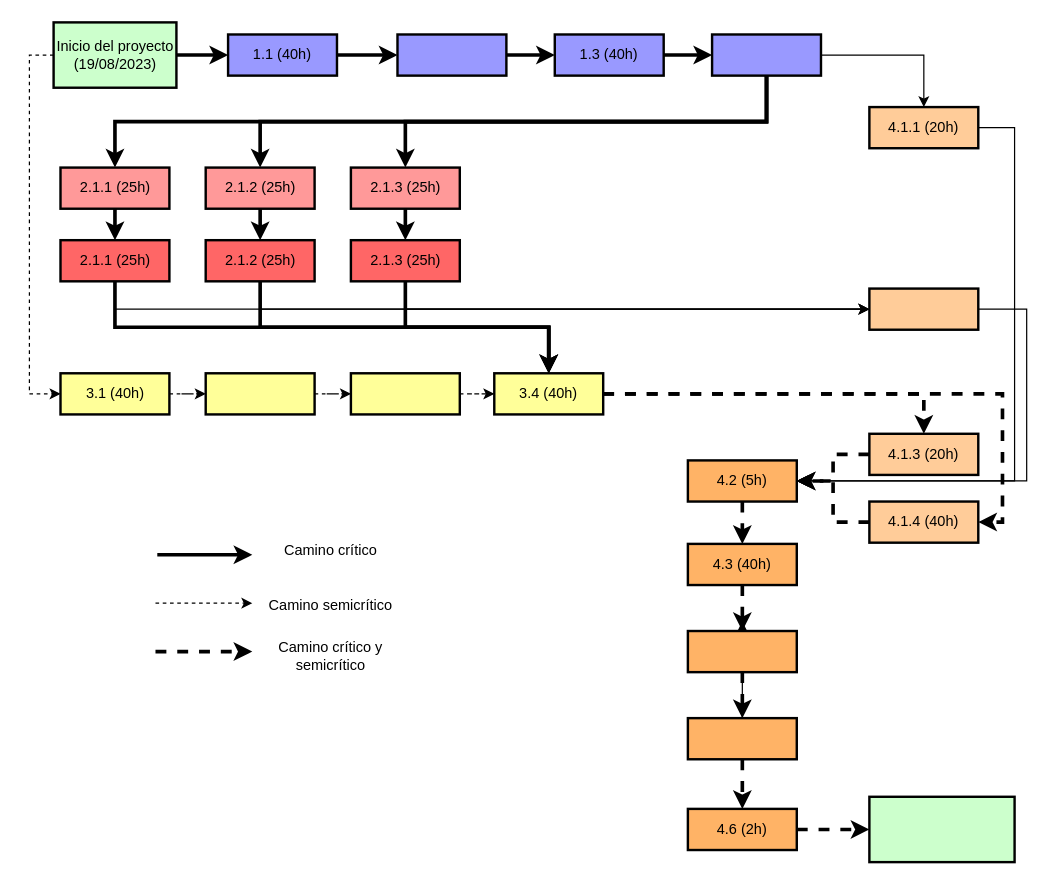
Image size: 1059x883. Some labels were removed from this diagram. The shapes that lost their labels are listed below. From the top down, each one's centre as x and y in pixels, then its label:
At [451,54]: "1.2 (30h)".
At [766,54]: "1.4 (40h)".
At [923,308]: "4.1.2 (20h)".
At [259,393]: "3.2 (40h)".
At [404,393]: "3.3 (40h)".
At [741,651]: "4.4 (5h)".
At [741,738]: "4.5 (8h)".
At [941,829]: "Finalizacion del proyecto (abril 2024)".
